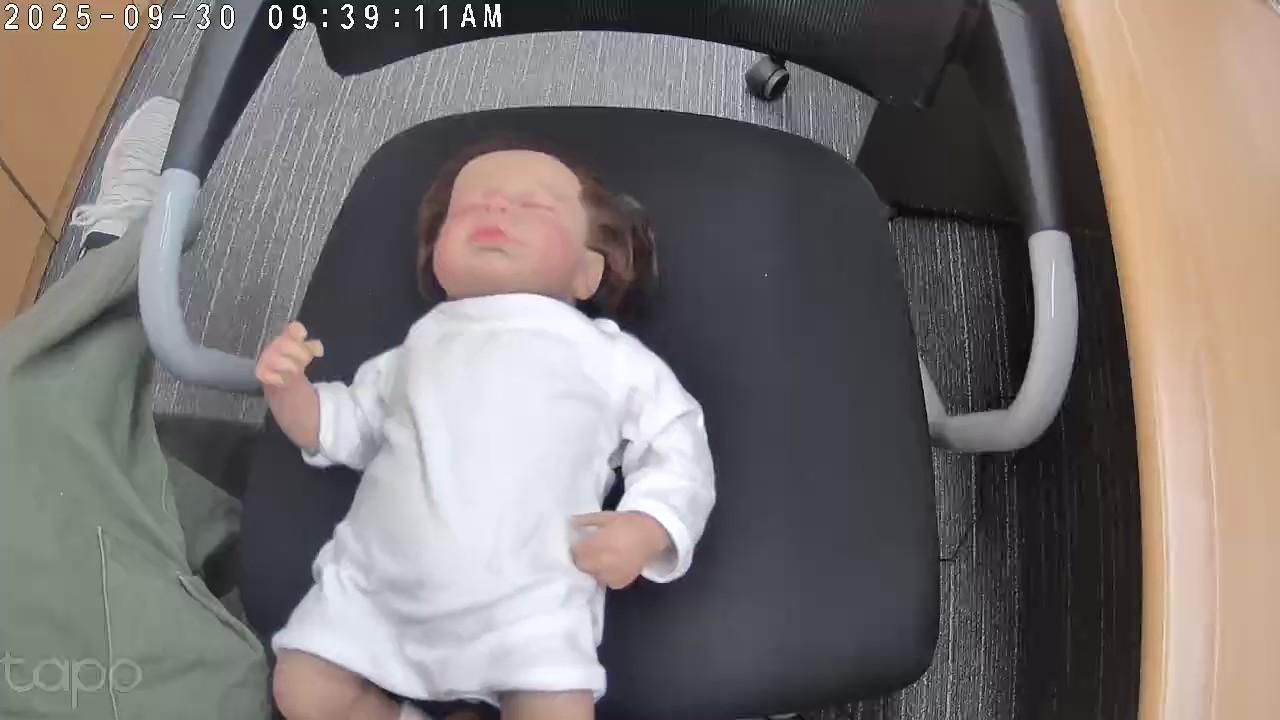hand: (562, 512, 662, 592), (256, 320, 324, 397)
